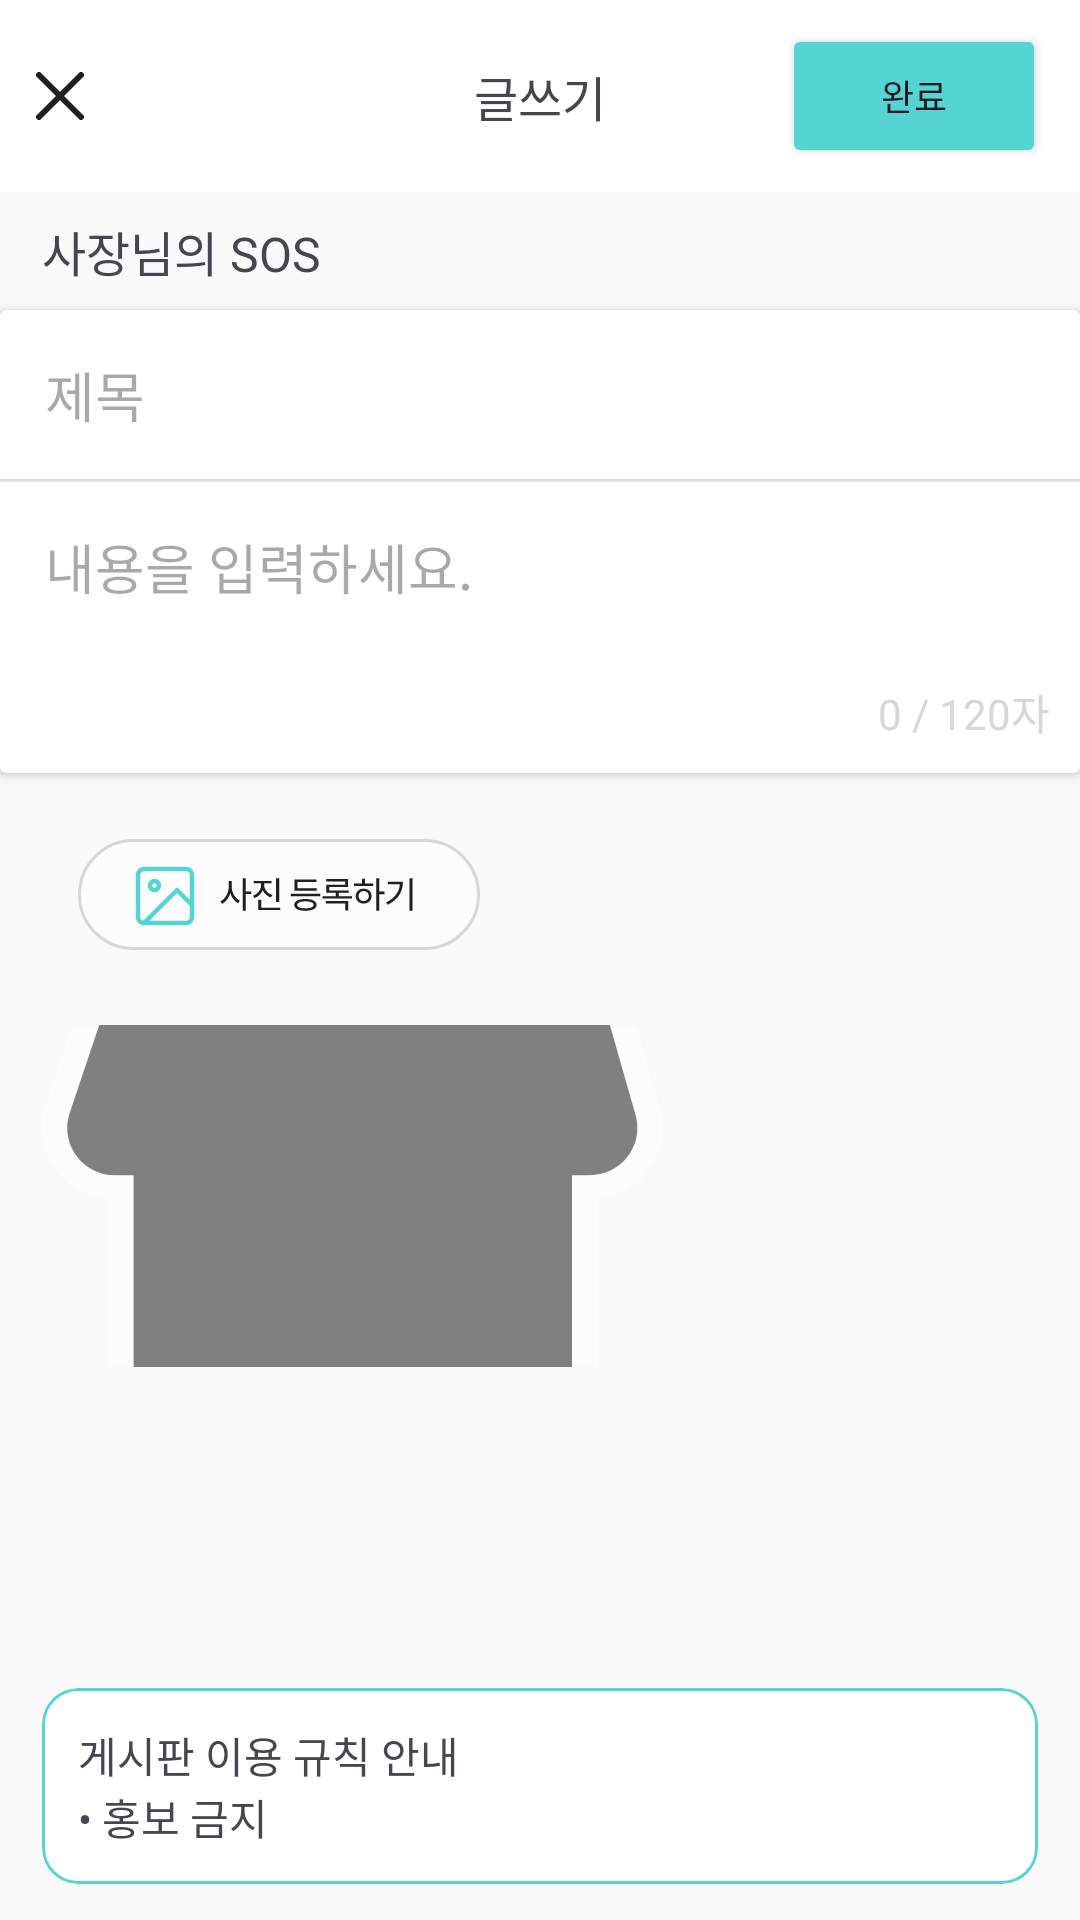

Screen size 1080px x 1920px. Icon name, then its center in pixels as [x,y]:
home cancel: [60,96]
